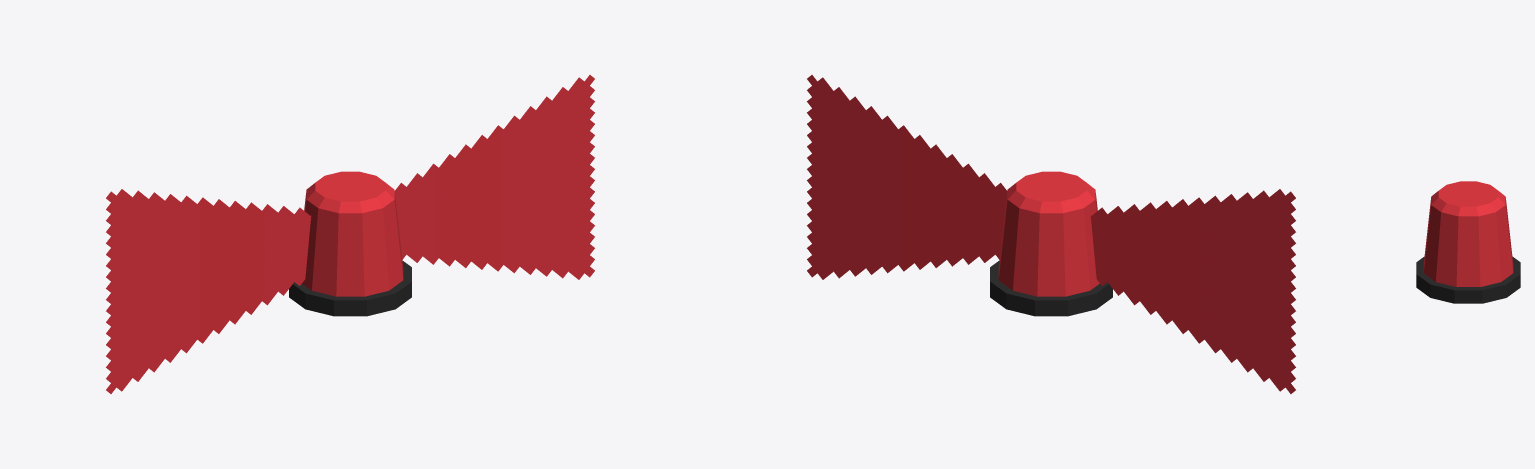
File: alarmLight.gltf
The picture shows the model from 3 angles, left to right: view 1: azimuth 30°, elevation 25°; view 2: azimuth 150°, elevation 25°; view 3: azimuth 270°, elevation 25°; orthographic projection. The views are drawn at different scales.
Parts seen in each view (by area): view 1: beam (×2), glass, base; view 2: beam (×2), glass, base; view 3: glass, base.
Boxes of the visible parts, <box> form: beam (×2): <box>106,75,594,393</box>; glass: <box>302,171,403,296</box>; base: <box>289,260,411,316</box>; beam (×2): <box>807,75,1295,393</box>; glass: <box>998,171,1099,296</box>; base: <box>990,260,1112,316</box>; glass: <box>1423,181,1513,286</box>; base: <box>1416,256,1520,303</box>.
Size of the model in its own units: 2.76 by 1.41 by 0.4375.
Materials: 5 (5 with a texture image).
